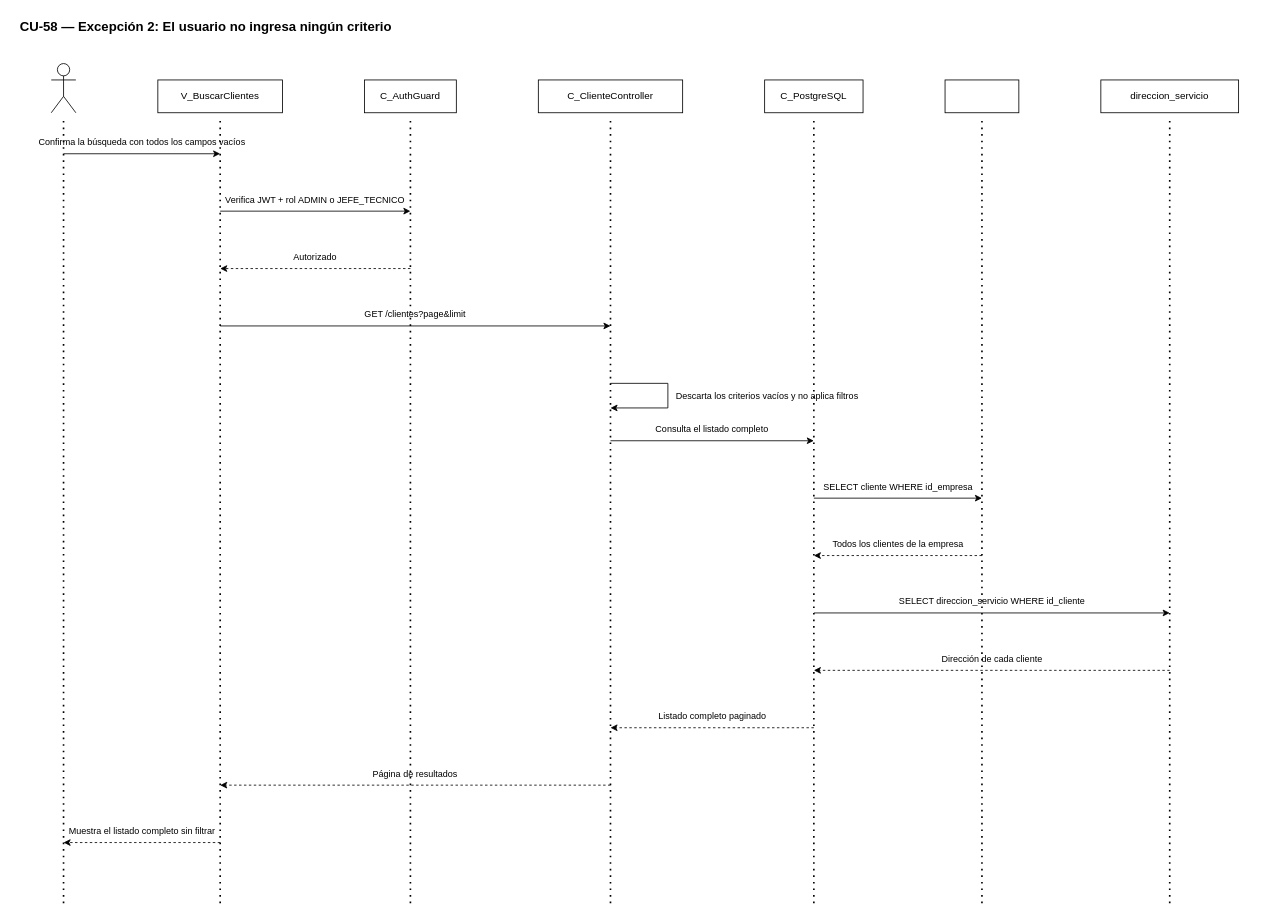
This 1286x923 diagram has some shape labels left out. The shapes that lost their labels are listed below. From the top down, each one's box as (x1, y1, x2, y2) in pixels, then its label:
(50, 63, 76, 113): Jefe Técnico
(944, 79, 1019, 113): cliente
